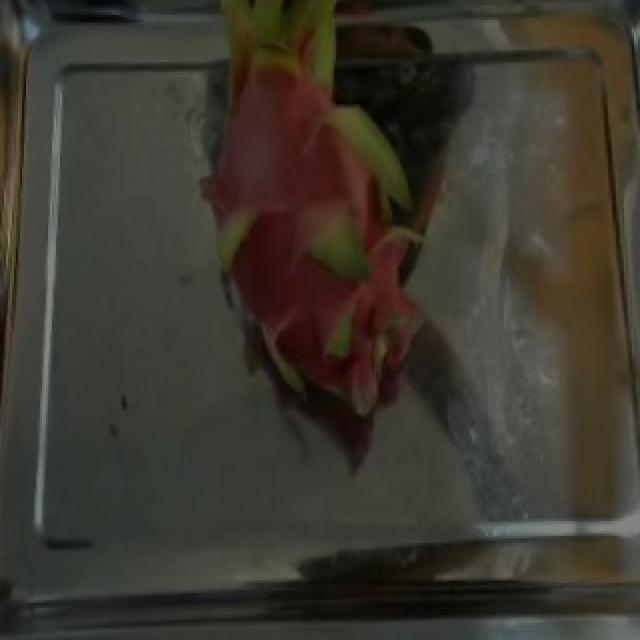fruit: (176, 3, 452, 419)
